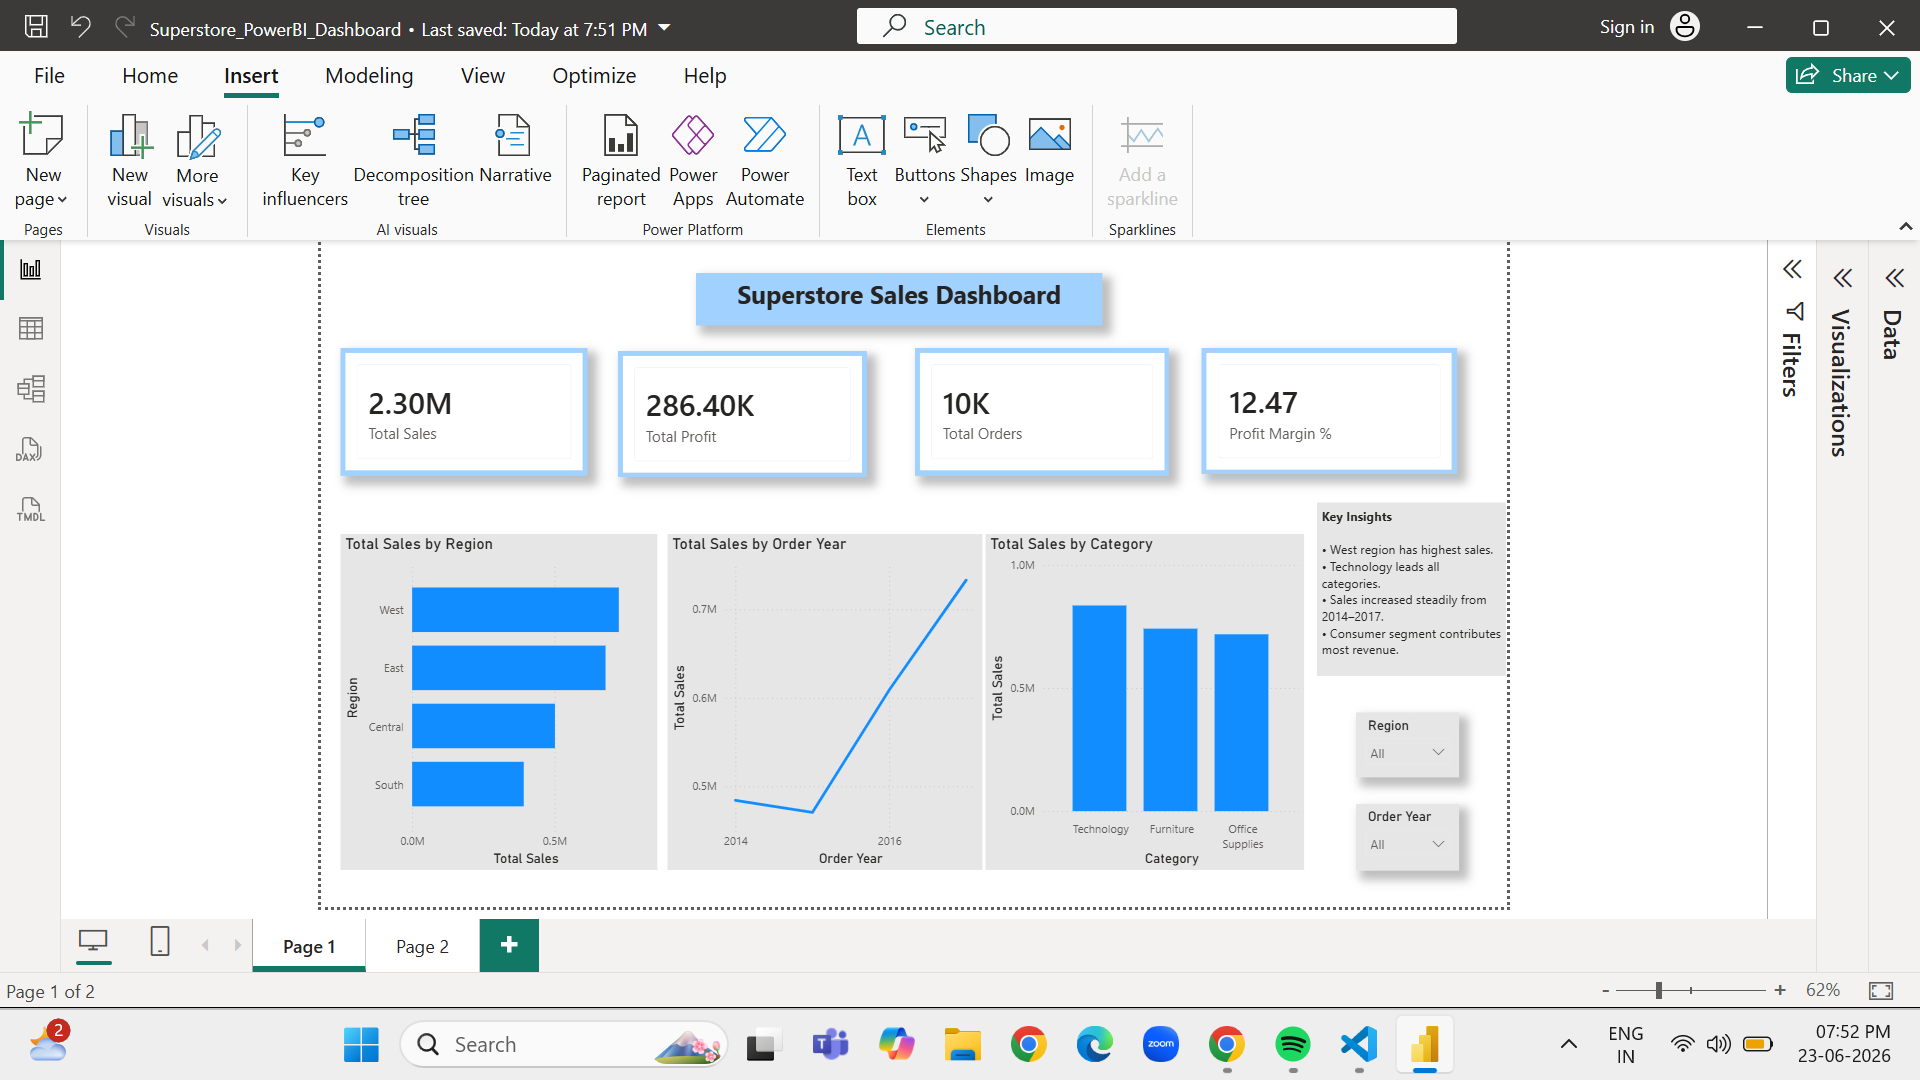

Layout of this report page (visuals, bound fields, positions):
{"tool":"powerbi","page":{"name":"Page 1","canvas":[1280,720],"ordinal":0},"visuals":[{"type":"cardVisual","fields":{"Data":["Sample - Superstore.Total Sales"]},"box":[20.8,130.4,287.2,138],"z":0},{"type":"cardVisual","fields":{"Data":["Sample - Superstore.Total Profit"]},"box":[20.8,255.1,268.3,136.1],"z":1000},{"type":"cardVisual","fields":{"Data":["Sample - Superstore.Total Orders"]},"box":[914.7,130.4,340.2,124.7],"z":2000},{"type":"cardVisual","fields":{"Data":["Sample - Superstore.Profit Margin %"]},"box":[914.7,255.1,364.7,136.1],"z":3000},{"type":"lineChart","fields":{"Category":["Sample - Superstore.Order Year"],"Y":["Sample - Superstore.Total Sales"]},"box":[391.2,417.6,340.2,268.3],"z":4000},{"type":"clusteredBarChart","fields":{"Category":["Sample - Superstore.Region"],"Y":["Sample - Superstore.Total Sales"]},"box":[391.2,130.4,415.8,262.7],"z":5000},{"type":"clusteredColumnChart","fields":{"Category":["Sample - Superstore.Category"],"Y":["Sample - Superstore.Total Sales"]},"box":[890.1,440.3,289.1,268.3],"z":6000},{"type":"slicer","fields":{"Values":["Sample - Superstore.Order Year","Sample - Superstore.Order Year"]},"box":[9.4,393.1,332.6,141.7],"z":7000},{"type":"slicer","fields":{"Values":["Sample - Superstore.Region"]},"box":[20.8,544.3,309.9,164.4],"z":8000},{"type":"textbox","box":[391.2,28.3,478.1,47.2],"z":8001}]}

Visuals, with their boxes on the page's 1280x720 design canvas (x1, y1, x2, y2). These are canvas units, not pixel positions in the 1920x1080 screenshot, which may show the page scaled, cropped or inside an application window:
cardVisual - Sample - Superstore.Total Sales: 21:130:308:268
cardVisual - Sample - Superstore.Total Profit: 21:255:289:391
cardVisual - Sample - Superstore.Total Orders: 915:130:1255:255
cardVisual - Sample - Superstore.Profit Margin %: 915:255:1279:391
lineChart - Sample - Superstore.Order Year x Sample - Superstore.Total Sales: 391:418:731:686
clusteredBarChart - Sample - Superstore.Region x Sample - Superstore.Total Sales: 391:130:807:393
clusteredColumnChart - Sample - Superstore.Category x Sample - Superstore.Total Sales: 890:440:1179:709
slicer - Sample - Superstore.Order Year x Sample - Superstore.Order Year: 9:393:342:535
slicer - Sample - Superstore.Region: 21:544:331:709
textbox: 391:28:869:76
